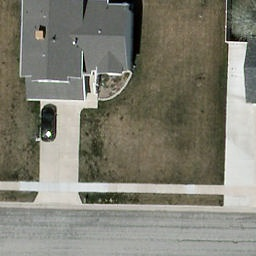car: (40, 105, 57, 142)
